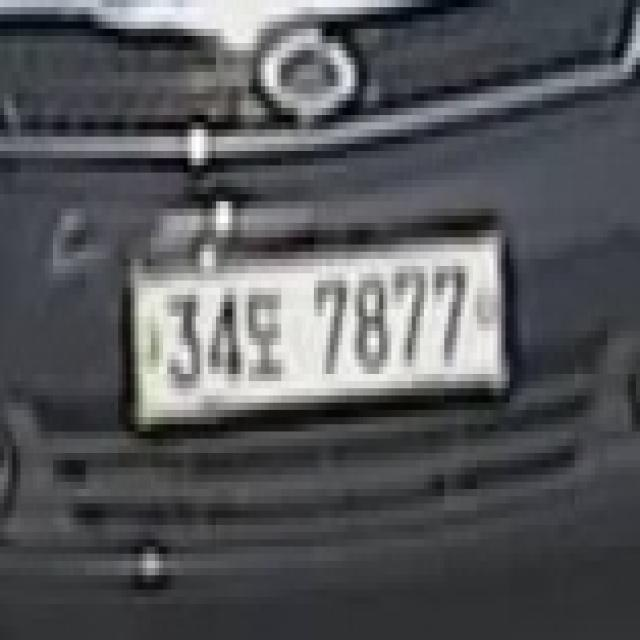3: (163, 288, 204, 396)
4: (204, 295, 240, 388)
7: (391, 259, 428, 359), (436, 259, 469, 367), (314, 273, 346, 381)
8: (355, 273, 391, 381)
do: (240, 295, 282, 388)
license_plate: (122, 223, 514, 439)
